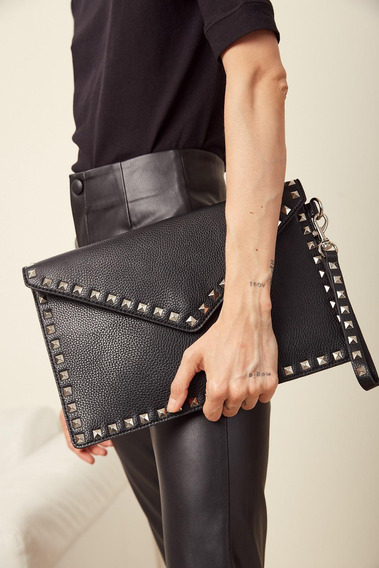cartera: (23, 180, 365, 449)
